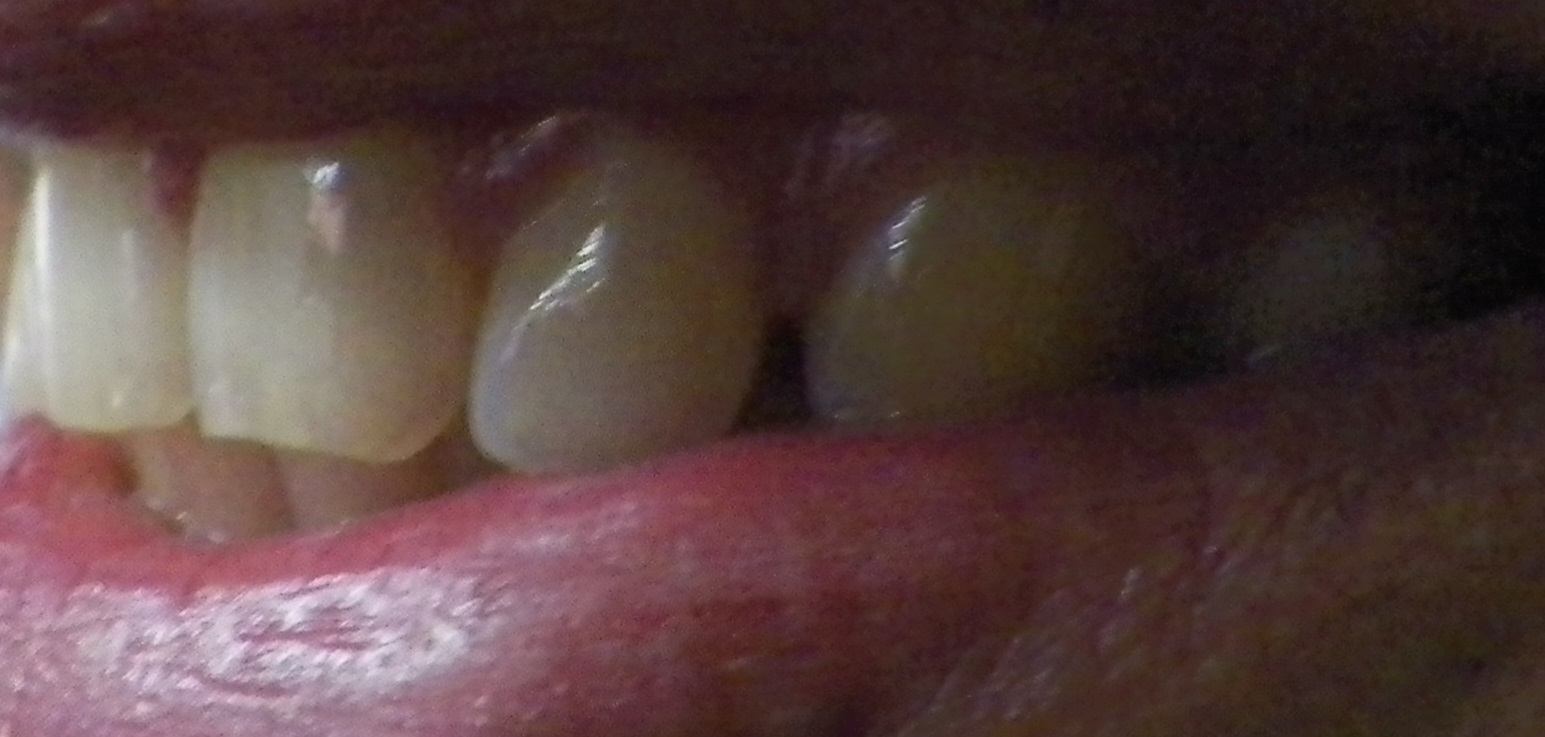boca: (4, 118, 1462, 550)
